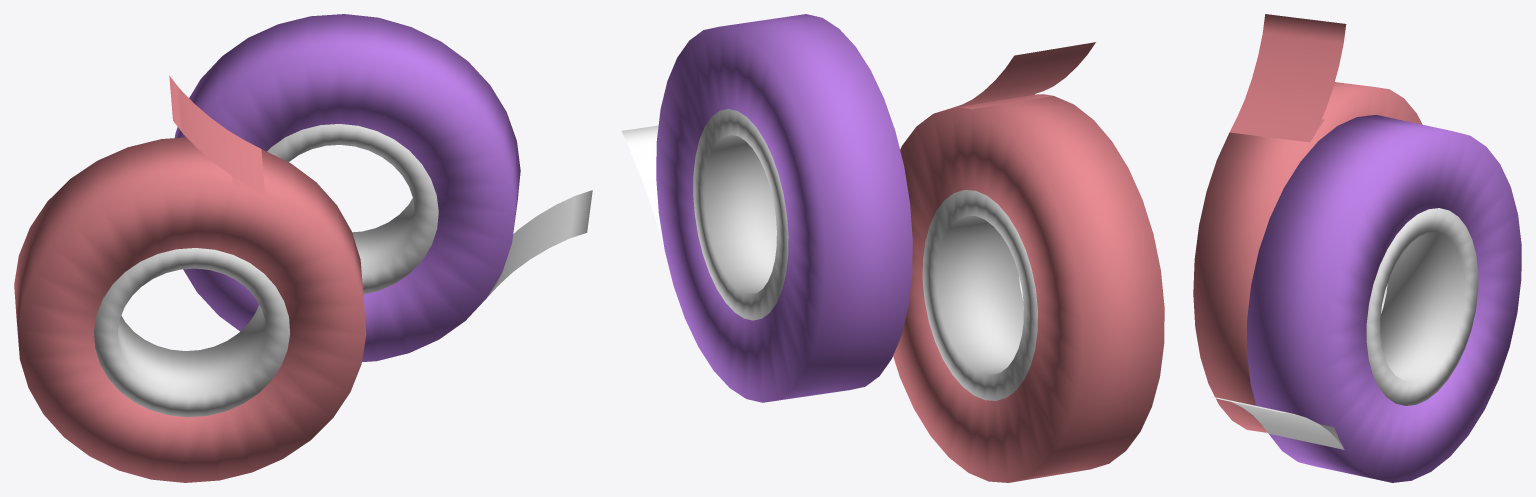
File: tape.glb
3 views of the same model, side by side, from view 1: azimuth 30°, elevation 25°; view 2: azimuth 150°, elevation 25°; view 3: azimuth 270°, elevation 25° (orthographic). The views are drawn at different scales.
Visible parts, largest first — view 1: Cylinder, Cylinder.003, Cylinder.001, Cylinder.004, Cylinder.002, Cylinder.005; view 2: Cylinder, Cylinder.003, Cylinder.001, Cylinder.004, Cylinder.002, Cylinder.005; view 3: Cylinder.003, Cylinder, Cylinder.004, Cylinder.002, Cylinder.005.
Part boxes in pixels (left/top/right/bottom): Cylinder: left=14, top=137, right=366, bottom=482; Cylinder.003: left=174, top=14, right=520, bottom=361; Cylinder.001: left=94, top=248, right=289, bottom=417; Cylinder.004: left=267, top=124, right=438, bottom=294; Cylinder.002: left=169, top=75, right=264, bottom=193; Cylinder.005: left=487, top=190, right=592, bottom=296; Cylinder: left=893, top=94, right=1164, bottom=482; Cylinder.003: left=656, top=14, right=912, bottom=402; Cylinder.001: left=922, top=190, right=1037, bottom=400; Cylinder.004: left=693, top=109, right=788, bottom=320; Cylinder.002: left=953, top=42, right=1095, bottom=109; Cylinder.005: left=621, top=125, right=664, bottom=249; Cylinder.003: left=1247, top=115, right=1521, bottom=482; Cylinder: left=1193, top=82, right=1422, bottom=432; Cylinder.004: left=1366, top=208, right=1478, bottom=405; Cylinder.002: left=1229, top=14, right=1346, bottom=142; Cylinder.005: left=1208, top=396, right=1344, bottom=449.
Bounding box in the file's own units: 5.74 × 3.95 × 2.96.
